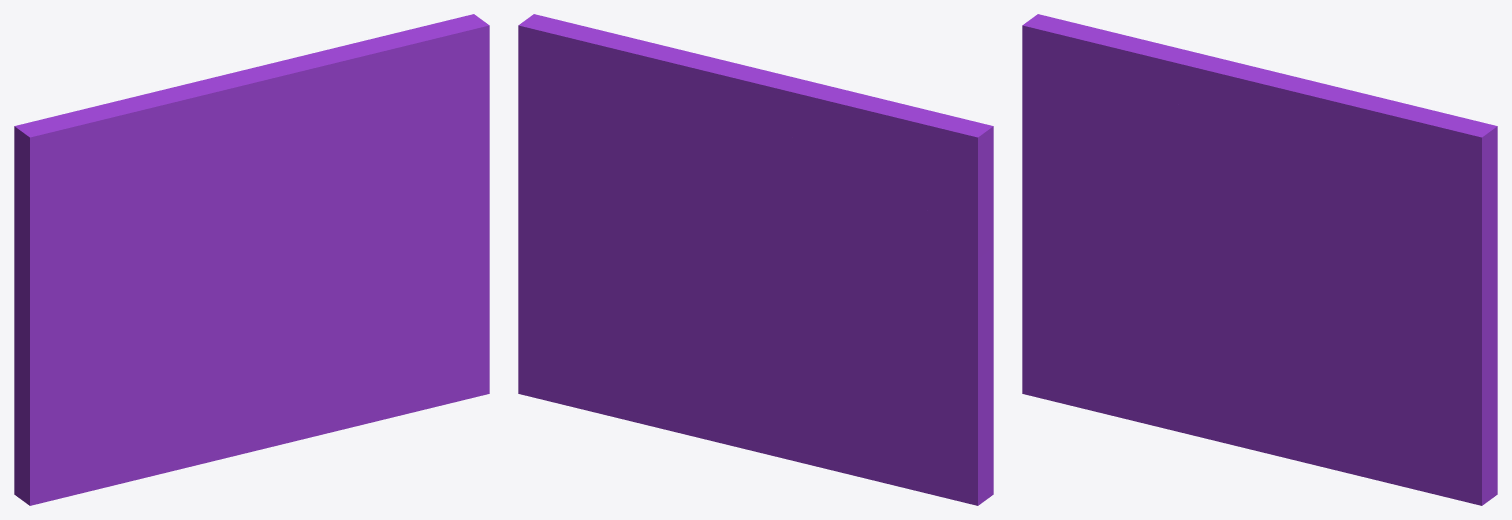
File: Barrier_161_chunks.fbx
The picture shows the model from 3 angles, left to right: view 1: azimuth 30°, elevation 25°; view 2: azimuth 150°, elevation 25°; view 3: azimuth 330°, elevation 25°; orthographic projection.
Visible parts, largest first — view 1: Barrier_161_1, Barrier_161_0, Barrier_161_5, Barrier_161_3, Barrier_161_6, Barrier_161_4; view 2: Barrier_161_1, Barrier_161_0, Barrier_161_6, Barrier_161_5, Barrier_161_4, Barrier_161_3, Barrier_161_2; view 3: Barrier_161_1, Barrier_161_0, Barrier_161_5, Barrier_161_3, Barrier_161_6, Barrier_161_4.
Boxes of the visible parts, x1=… form: Barrier_161_1: x1=258, y1=14, x2=489, y2=437; Barrier_161_0: x1=14, y1=248, x2=307, y2=505; Barrier_161_5: x1=185, y1=27, x2=431, y2=199; Barrier_161_3: x1=14, y1=168, x2=213, y2=263; Barrier_161_6: x1=14, y1=81, x2=198, y2=199; Barrier_161_4: x1=196, y1=185, x2=319, y2=265; Barrier_161_1: x1=518, y1=14, x2=733, y2=437; Barrier_161_0: x1=698, y1=247, x2=993, y2=505; Barrier_161_6: x1=792, y1=88, x2=993, y2=211; Barrier_161_5: x1=572, y1=28, x2=837, y2=178; Barrier_161_4: x1=667, y1=162, x2=834, y2=265; Barrier_161_3: x1=820, y1=161, x2=993, y2=263; Barrier_161_2: x1=716, y1=227, x2=774, y2=311; Barrier_161_1: x1=1251, y1=113, x2=1497, y2=505; Barrier_161_0: x1=1022, y1=146, x2=1299, y2=461; Barrier_161_5: x1=1177, y1=59, x2=1443, y2=214; Barrier_161_3: x1=1022, y1=60, x2=1205, y2=232; Barrier_161_6: x1=1022, y1=14, x2=1221, y2=131; Barrier_161_4: x1=1188, y1=177, x2=1311, y2=264.
Size of the model in its own units: 376 by 288 by 22.1.
